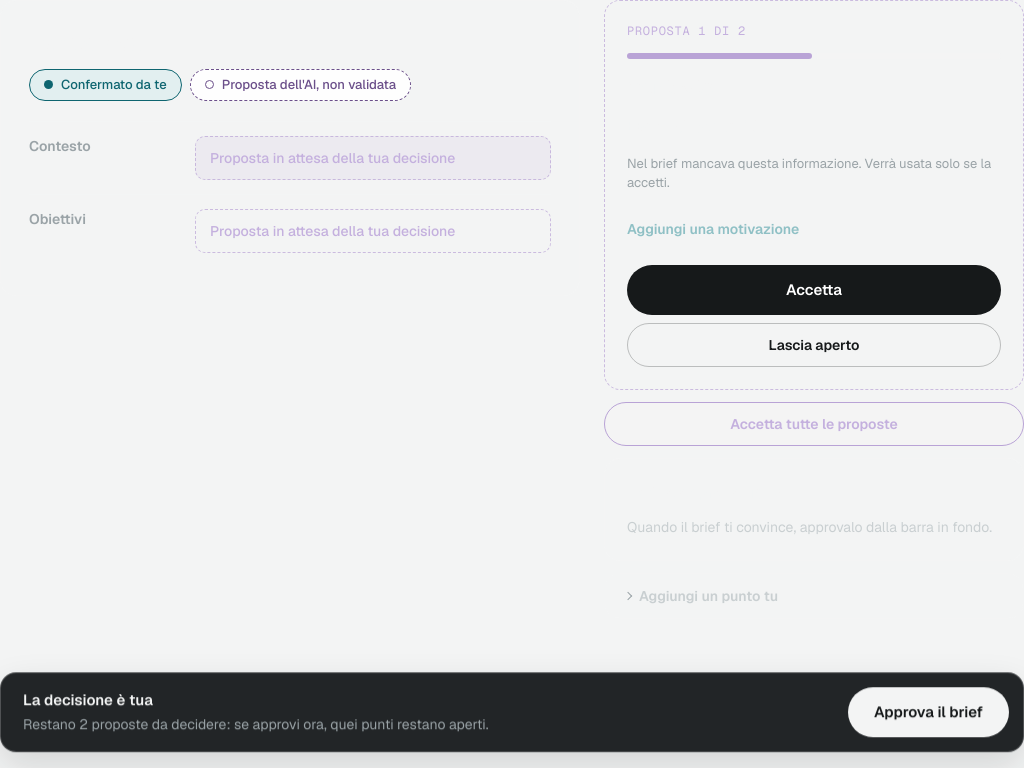
Test: ProjectClarificationFlow › tells the owner in Italian when there is nothing to accept and when all is accepted
The width and height of the screenshot is (1024, 768).
Click the button with test id "accept-all-assumptions": (814,424) x1=604 y1=402 x2=1023 y2=446
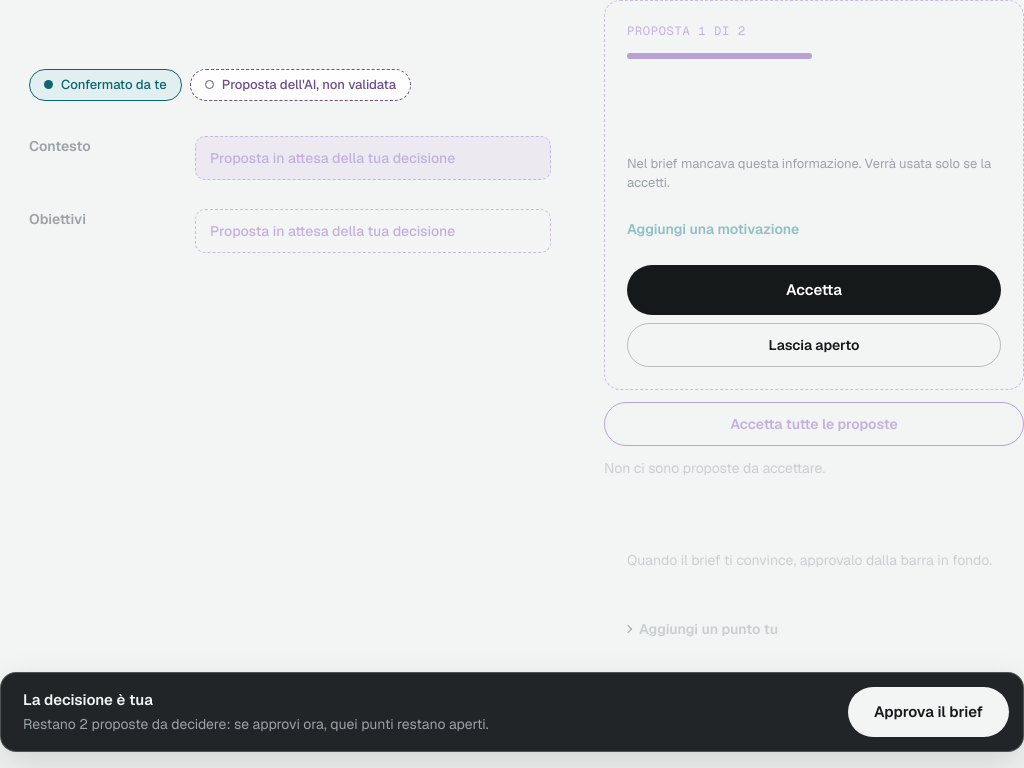
Expected: the text with test id "accept-all-outcome" reads "Non ci sono proposte da accettare.", x1=604 y1=459 x2=825 y2=477
Click the button with test id "accept-all-assumptions": (814,424) x1=604 y1=402 x2=1023 y2=446
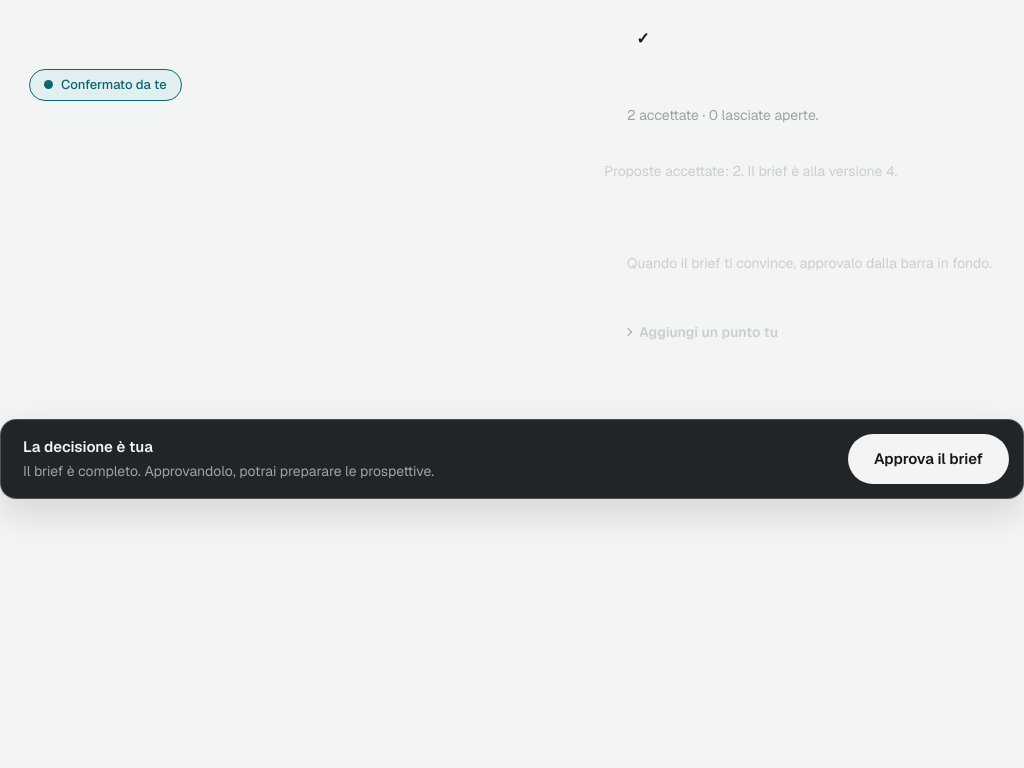
Expected: the text with test id "accept-all-outcome" reads "Proposte accettate: 2. Il brief è alla versione 4.", x1=604 y1=162 x2=897 y2=180
